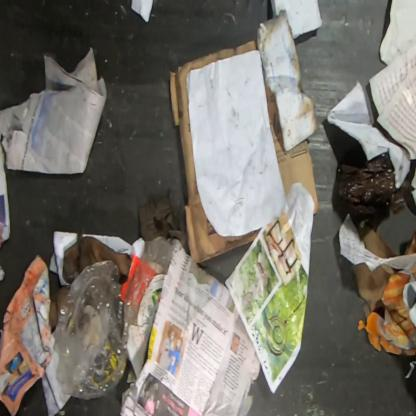cardboard: (169, 40, 263, 263), (265, 86, 321, 216)
soft_plastic: (53, 236, 175, 401), (336, 151, 414, 233)
